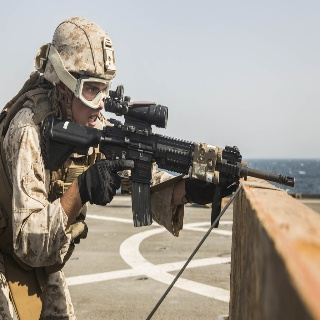rifle: (42, 85, 298, 229)
